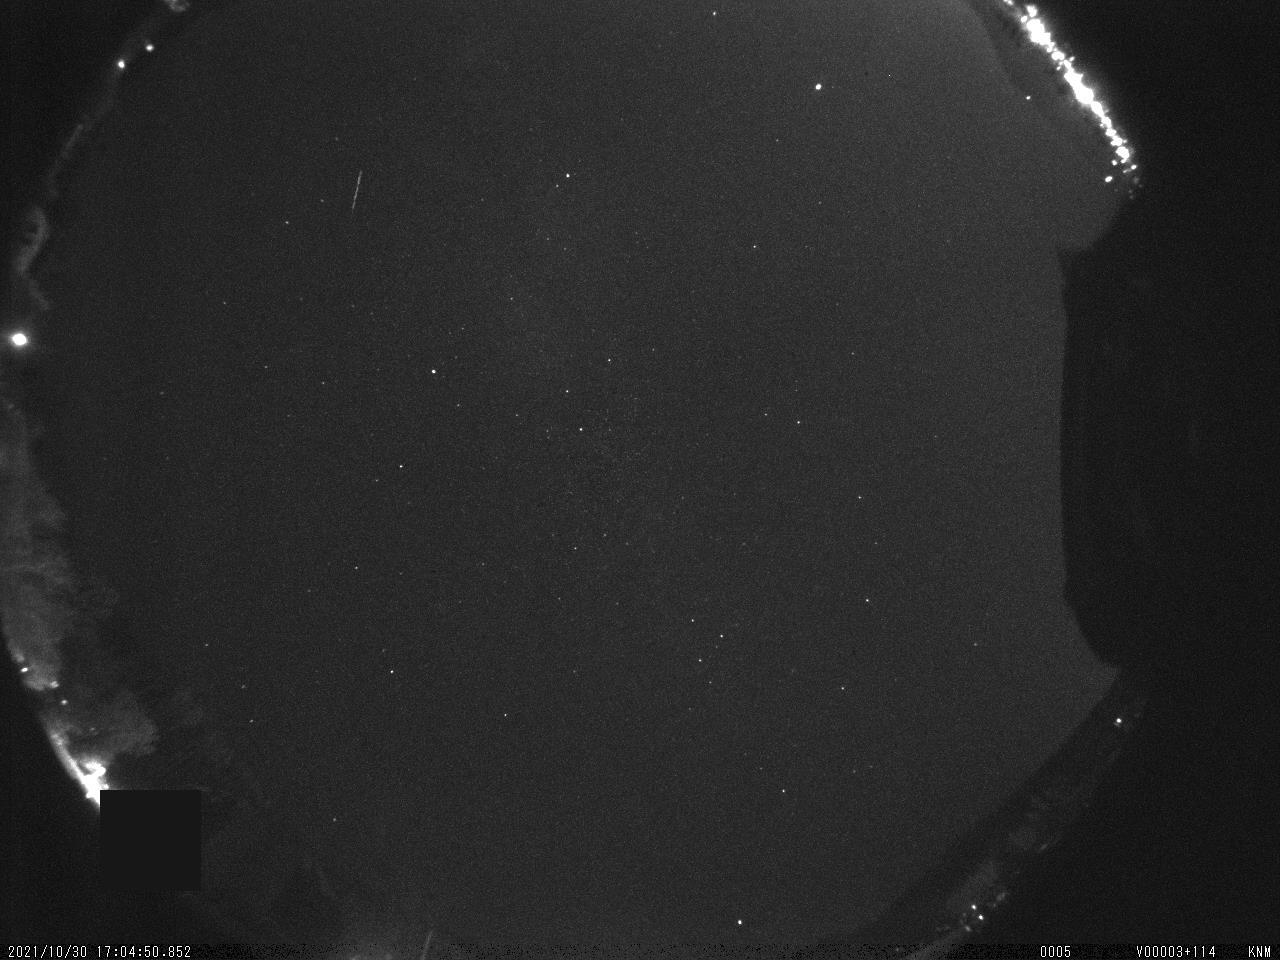meteor: (341, 159, 378, 223)
